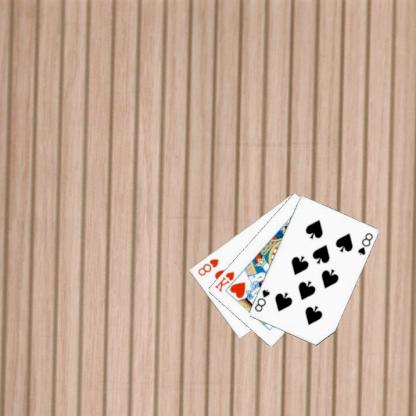8H: (197, 256, 221, 277)
8S: (357, 230, 376, 257), (254, 287, 272, 313)
KH: (214, 269, 237, 293)
